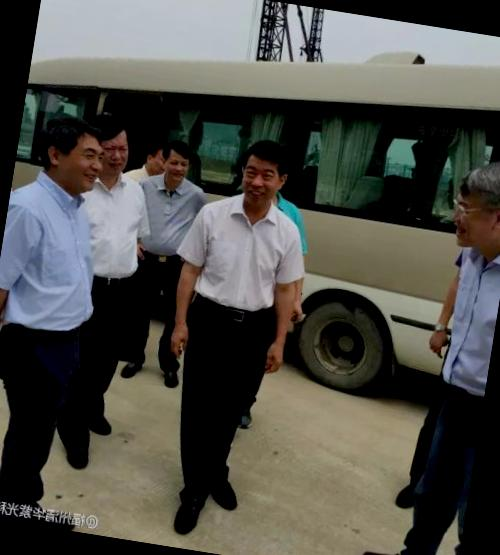no_helmet: (30, 110, 111, 191), (447, 152, 500, 259), (235, 134, 298, 207), (91, 110, 143, 180), (156, 134, 198, 184)
